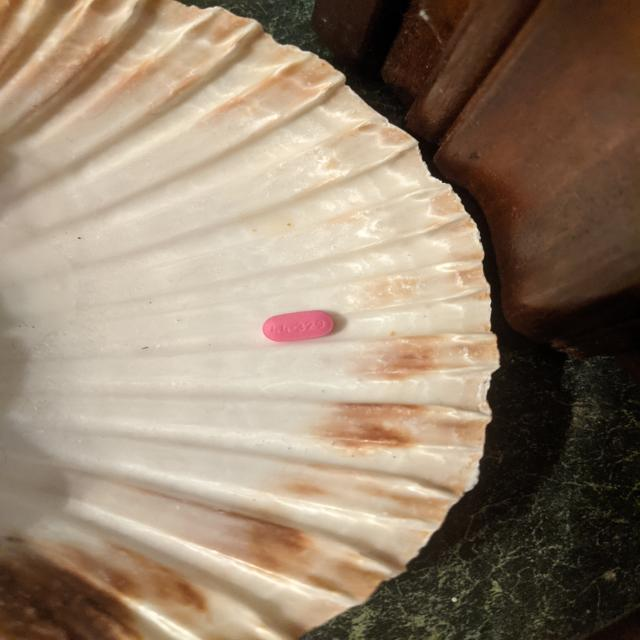non-organic waste: (261, 309, 336, 342)
